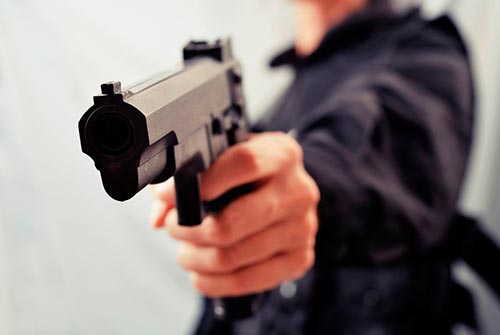Arma Real: (70, 36, 266, 229)
